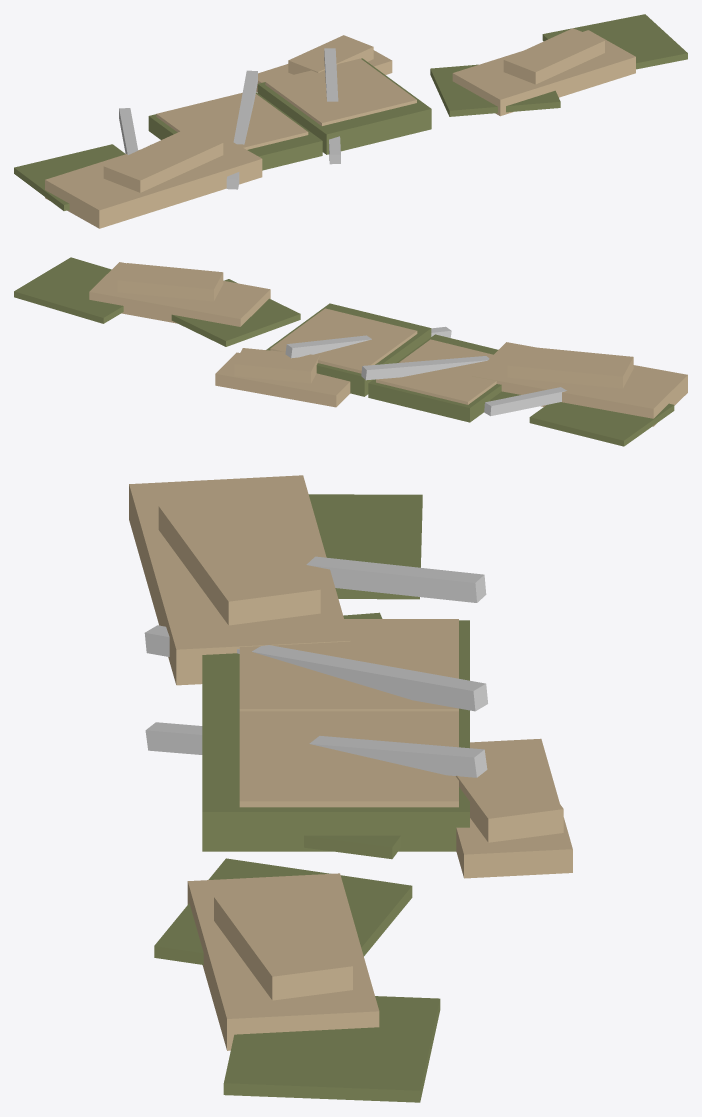
The model's file is SM_HescoCorto3_v2_Escalonado_e3_Brecha_LOD1.fbx.
The picture shows the model from 3 angles, top to bottom: view 1: azimuth 30°, elevation 25°; view 2: azimuth 150°, elevation 25°; view 3: azimuth 270°, elevation 25°; orthographic projection. The views are drawn at different scales.
Visible parts, largest first — view 1: SM_hesco_piezas_v91_LOD1; view 2: SM_hesco_piezas_v91_LOD1; view 3: SM_hesco_piezas_v91_LOD1.
Part boxes in pixels (x1=…): SM_hesco_piezas_v91_LOD1: x1=14, y1=14, x2=687, y2=228; SM_hesco_piezas_v91_LOD1: x1=14, y1=257, x2=687, y2=446; SM_hesco_piezas_v91_LOD1: x1=129, y1=475, x2=572, y2=1102.
Bounding box in the file's own units: 6.44 × 0.351 × 2.02.
